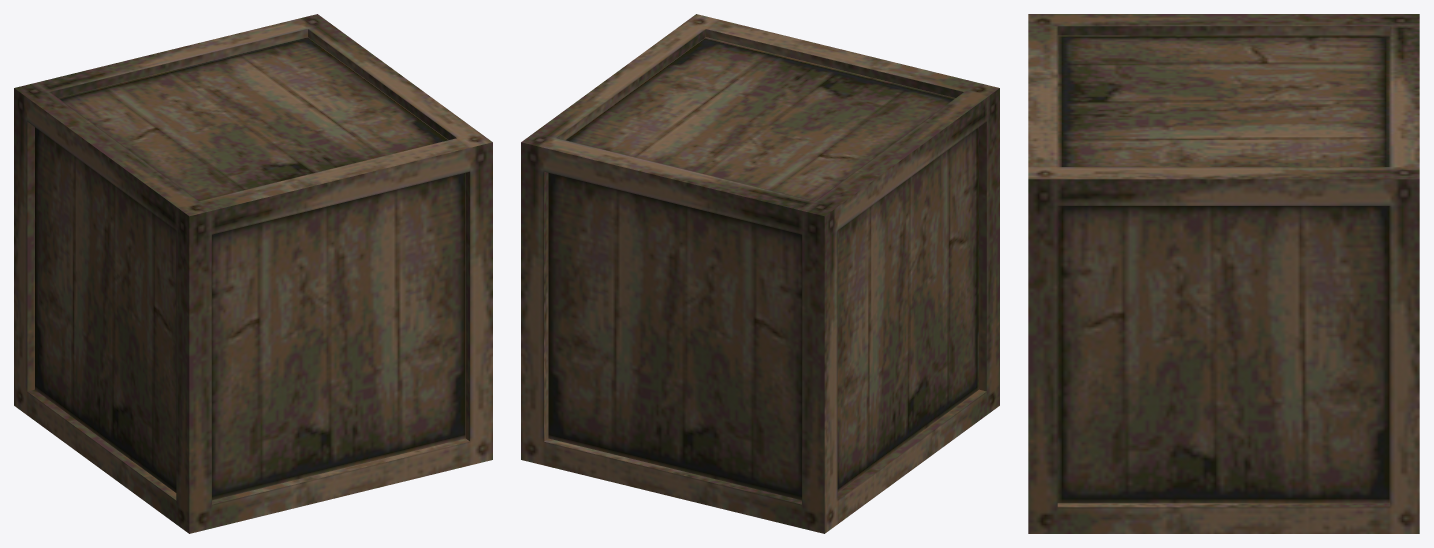
File: psx_wood_box.glb
The picture shows the model from 3 angles, left to right: view 1: azimuth 30°, elevation 25°; view 2: azimuth 150°, elevation 25°; view 3: azimuth 270°, elevation 25°; orthographic projection. The views are drawn at different scales.
Parts seen in each view (by area): view 1: psx wood crate; view 2: psx wood crate; view 3: psx wood crate.
Boxes of the visible parts, bbox=[...] form: psx wood crate: bbox=[14, 14, 492, 533]; psx wood crate: bbox=[521, 14, 999, 533]; psx wood crate: bbox=[1028, 14, 1419, 533].
Bounding box in the file's own units: 1 × 1 × 1.
Materials: 1 (1 with a texture image).
